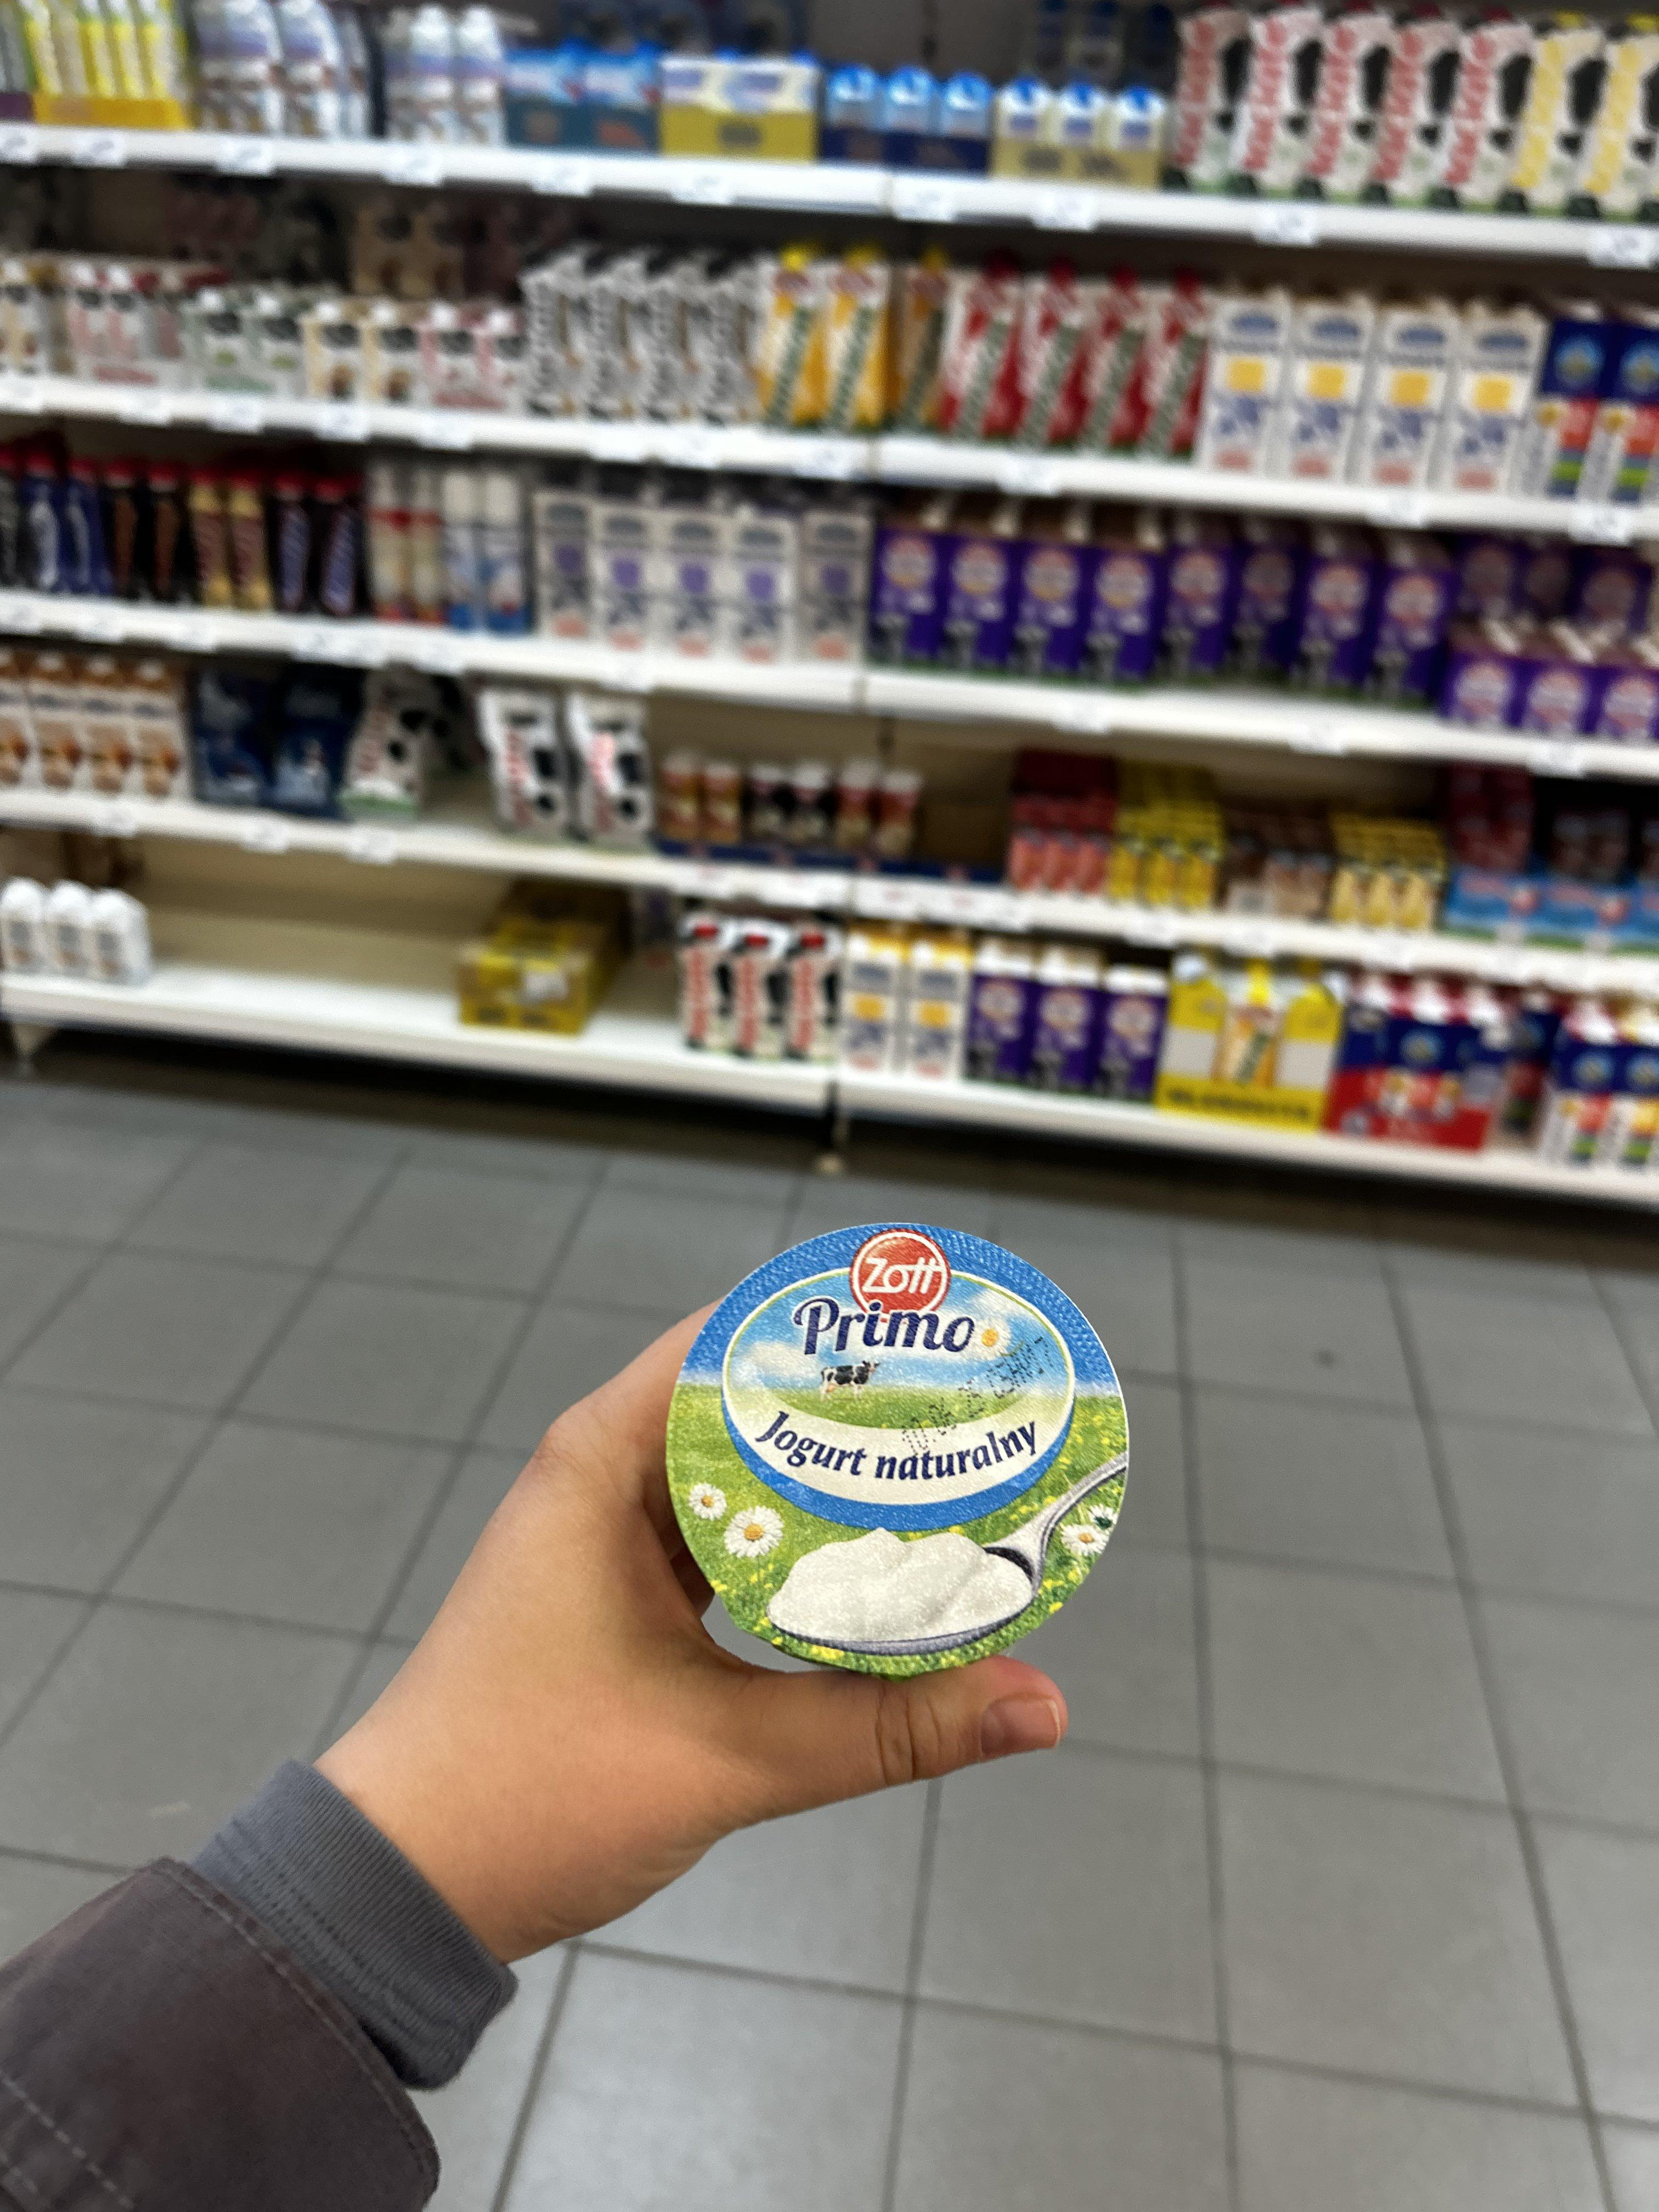Yogurt: (657, 1221, 1140, 1669)
